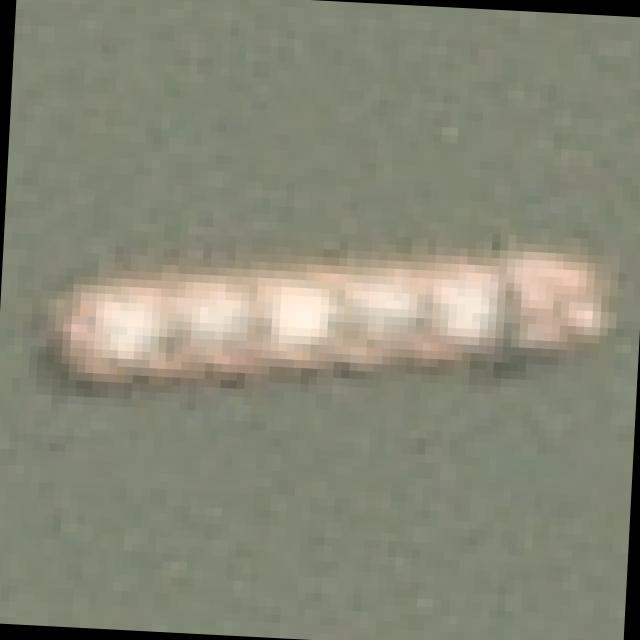ship: (11, 159, 629, 442)
